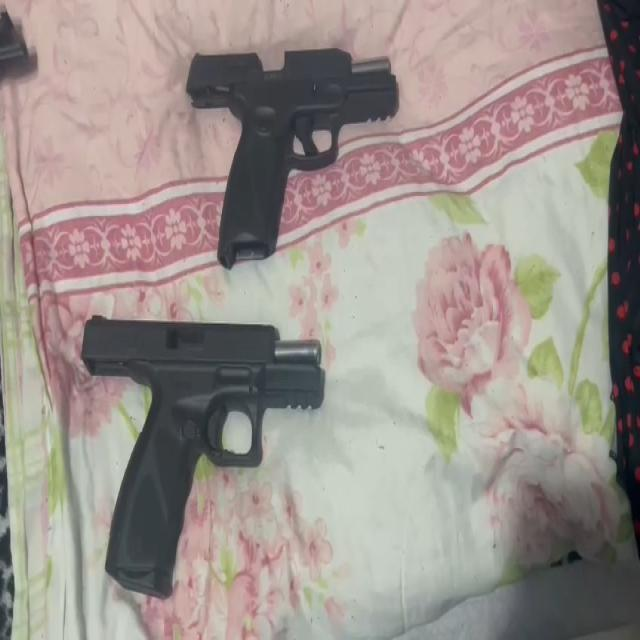gun: (79, 314, 328, 601), (185, 52, 399, 266)
